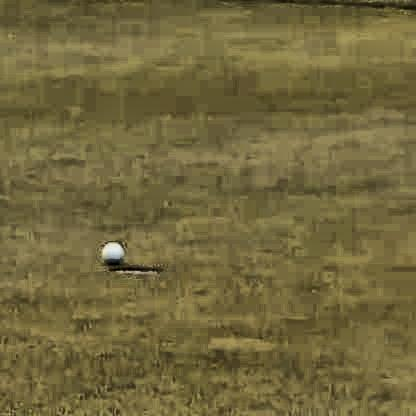golfball: (97, 237, 122, 265)
